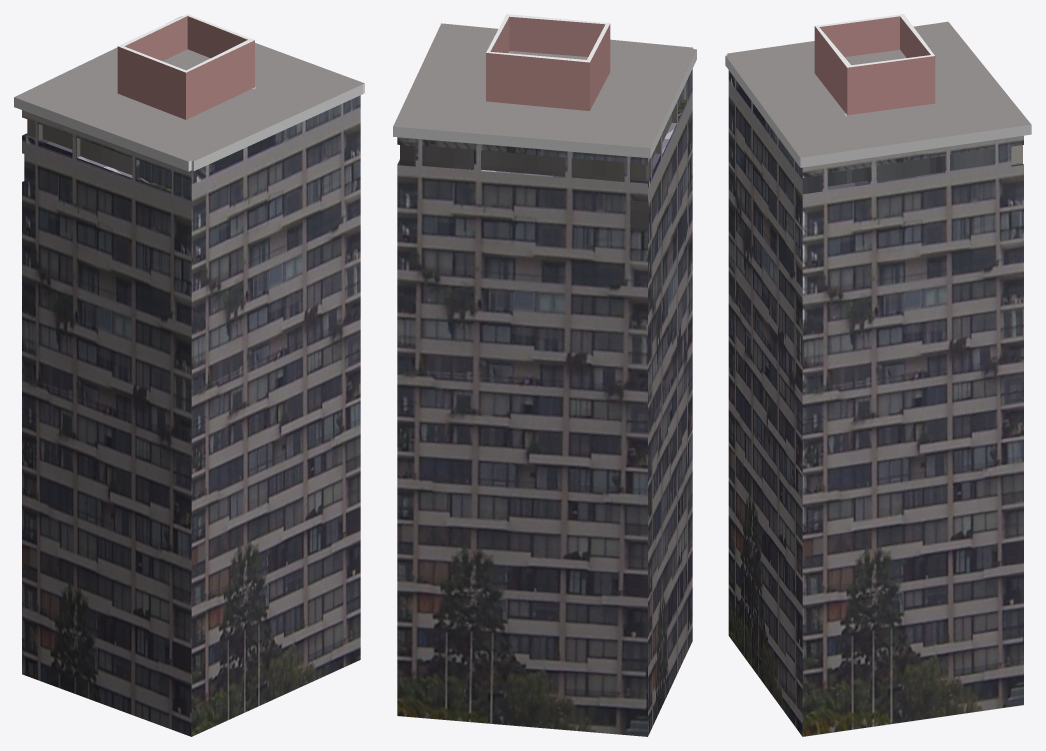
File: edificio_residencial.glb
The picture shows the model from 3 angles, left to right: view 1: azimuth 30°, elevation 25°; view 2: azimuth 150°, elevation 25°; view 3: azimuth 270°, elevation 25°; orthographic projection. The views are drawn at different scales.
Parts seen in each view (by area): view 1: edificio_residencial; view 2: edificio_residencial; view 3: edificio_residencial.
Boxes of the visible parts, <box> form: edificio_residencial: <box>14,14,364,736</box>; edificio_residencial: <box>393,14,696,736</box>; edificio_residencial: <box>725,14,1031,736</box>.
Size of the model in its own units: 34.35 by 73.84 by 32.6.
21 materials, 9 textured.
